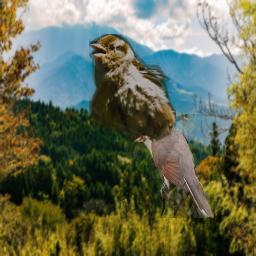Cuckoo: (124, 114, 214, 218)
Sparrow: (89, 34, 176, 142)
